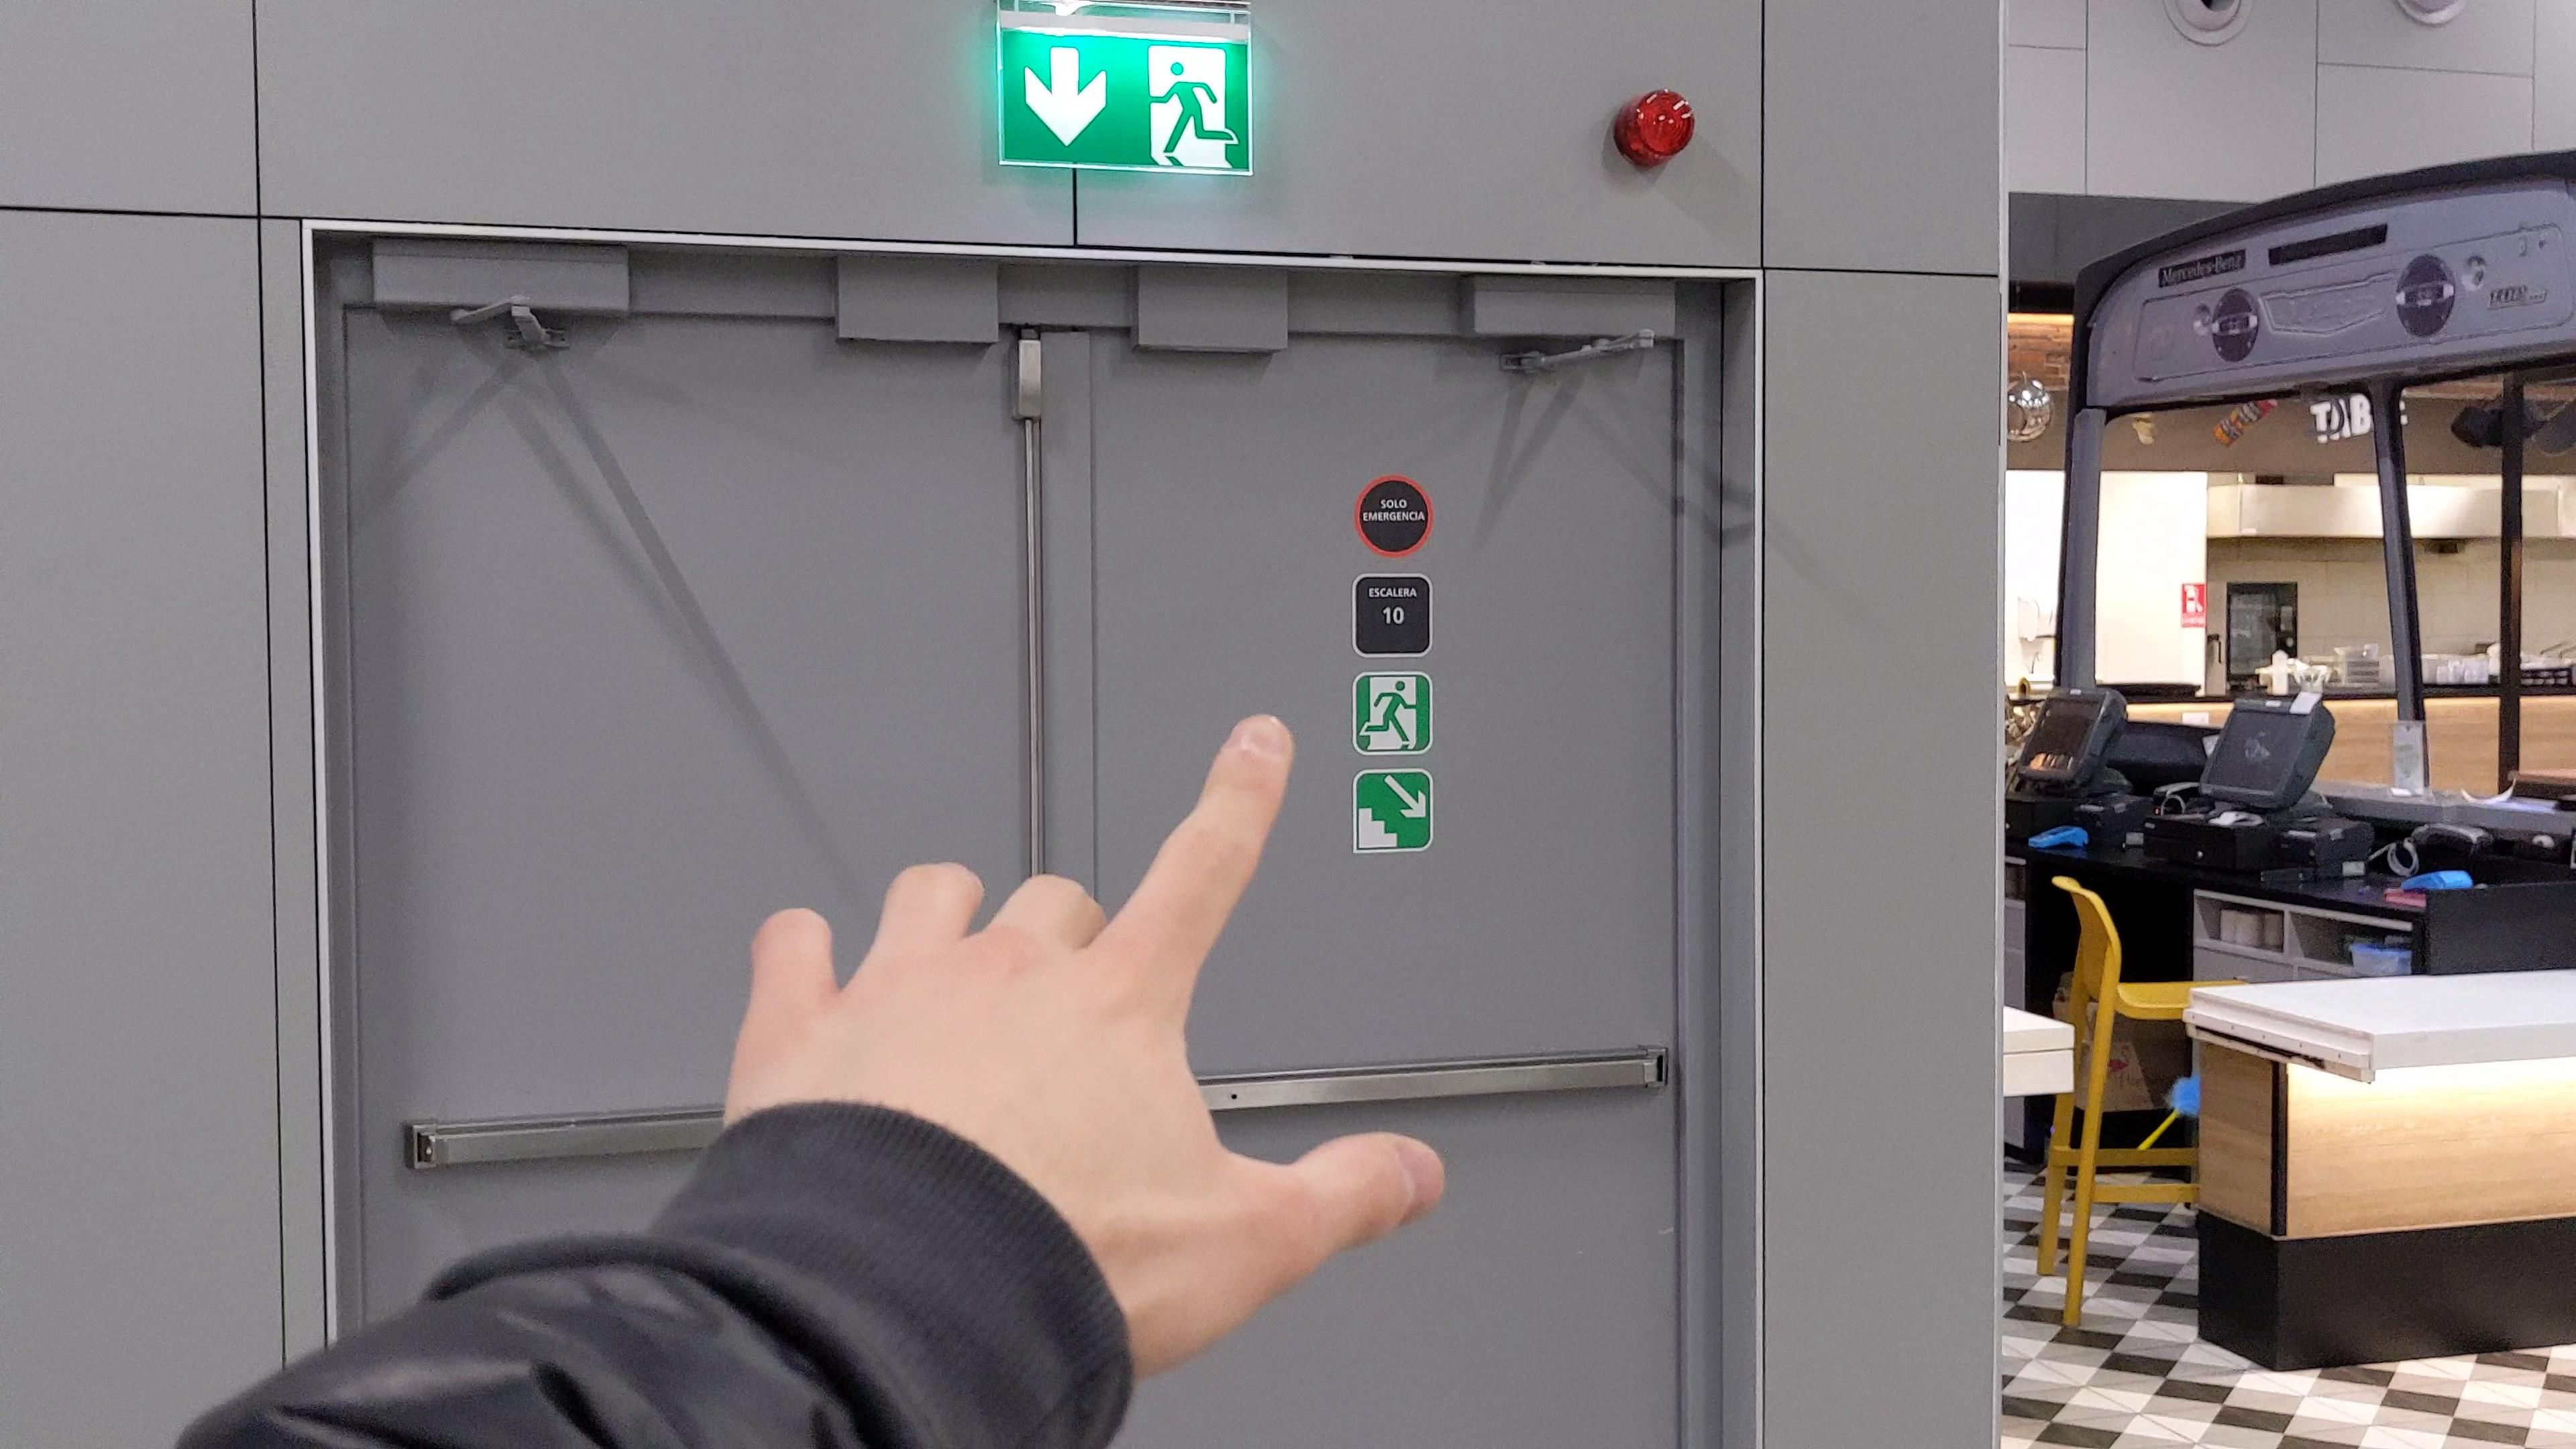emergency down arrow: (1017, 41, 1113, 152)
emergency exit: (1143, 42, 1242, 179), (1359, 674, 1419, 754)
